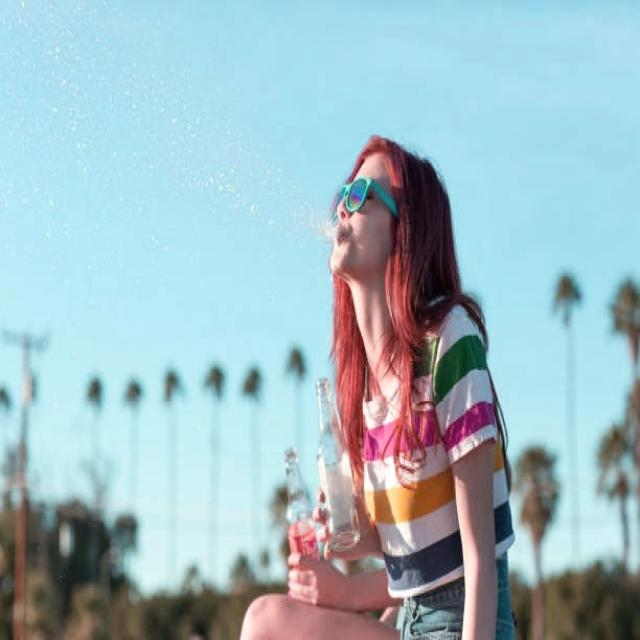Spitting: (290, 134, 456, 387)
